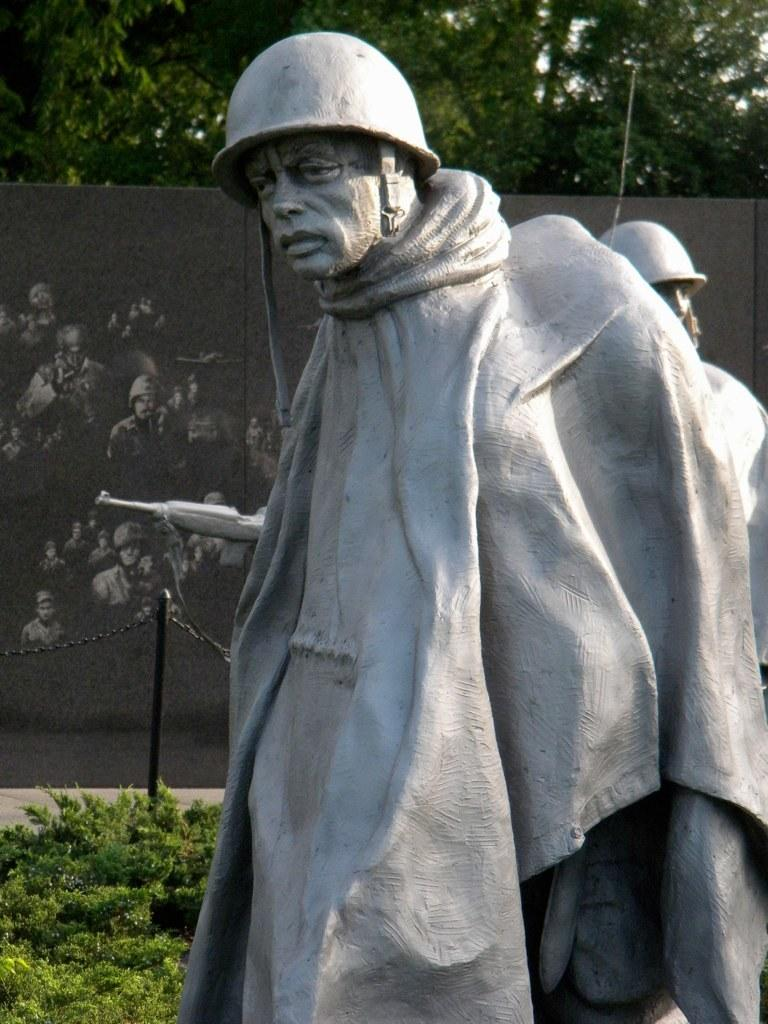Hat: (210, 25, 444, 243), (593, 220, 707, 302)
